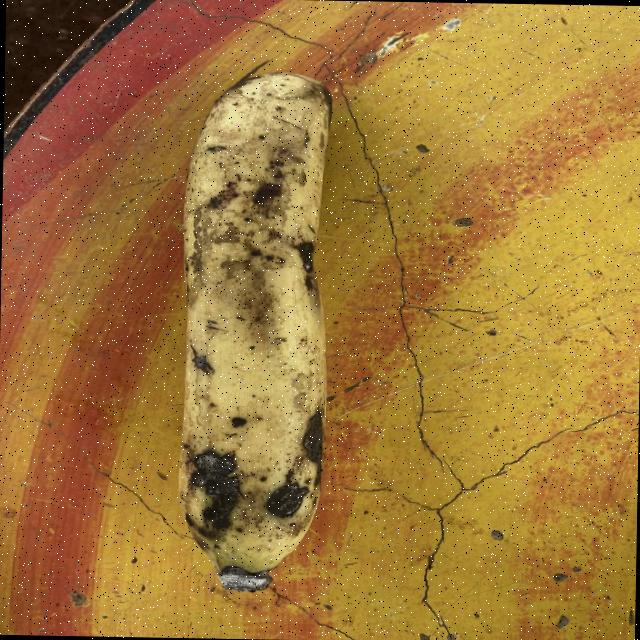Overripe: (98, 63, 431, 612)
